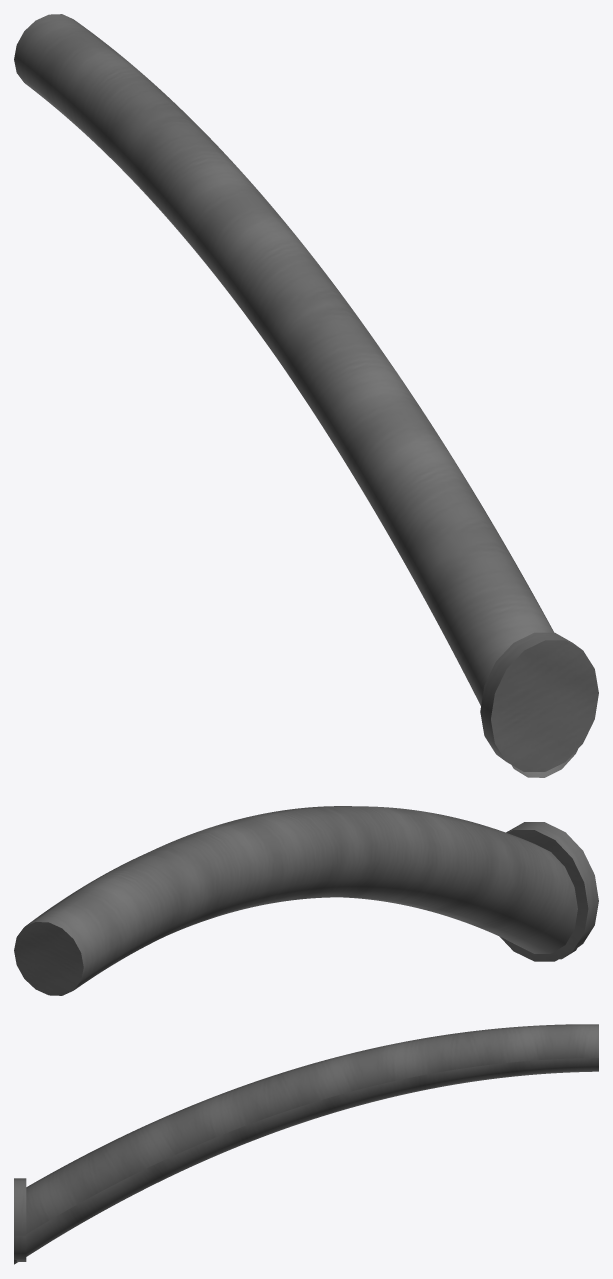
Rendered from mastarmcurve_6x2_inv.obj.
The picture shows the model from 3 angles, top to bottom: view 1: azimuth 30°, elevation 25°; view 2: azimuth 150°, elevation 25°; view 3: azimuth 270°, elevation 25°; orthographic projection. The views are drawn at different scales.
Visible parts, largest first — view 1: mastarm_6x2_inv; view 2: mastarm_6x2_inv; view 3: mastarm_6x2_inv.
Part boxes in pixels (x1,y1,x2,y2): mastarm_6x2_inv: (14, 14, 598, 777); mastarm_6x2_inv: (14, 806, 598, 995); mastarm_6x2_inv: (14, 1024, 598, 1264).
Bounding box in the file's own units: 0.1259 × 0.4452 × 1.
